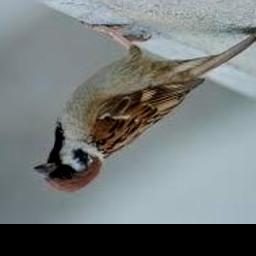Sparrow: (35, 24, 256, 194)
